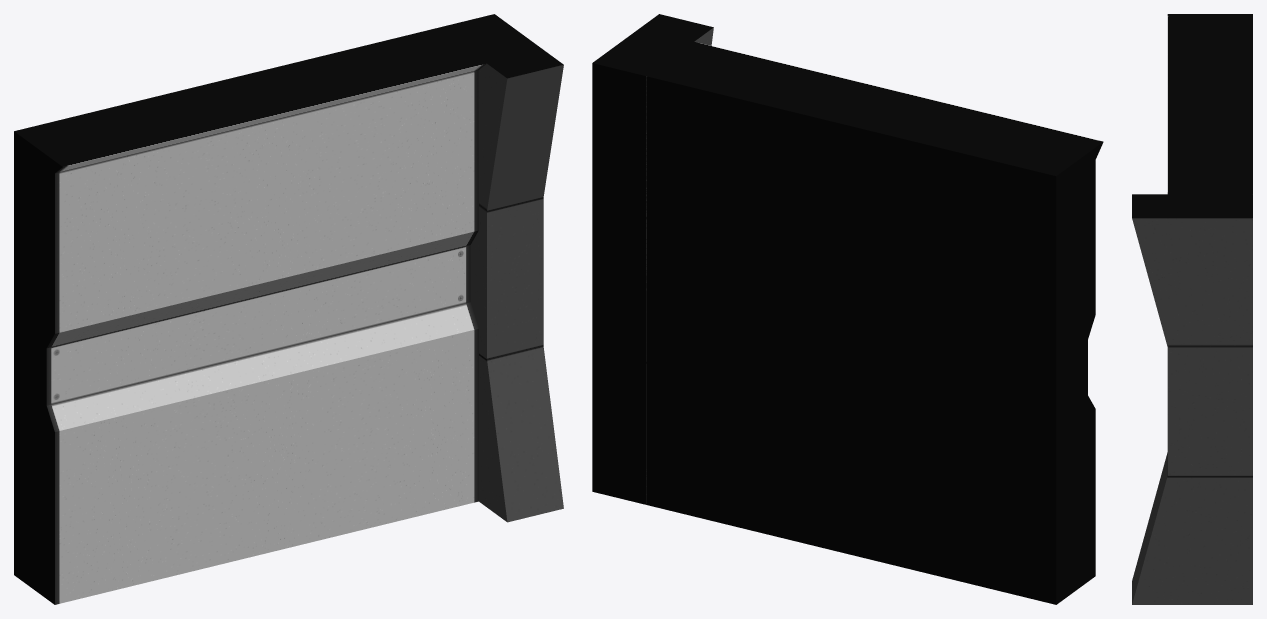
File: wall-2.fbx
The picture shows the model from 3 angles, left to right: view 1: azimuth 30°, elevation 25°; view 2: azimuth 150°, elevation 25°; view 3: azimuth 270°, elevation 25°; orthographic projection. The views are drawn at different scales.
Parts seen in each view (by area): view 1: pCube13, pCube31; view 2: pCube13, pCube31; view 3: pCube31, pCube13.
Part boxes in pixels (left/top/right/bottom): pCube13: left=14, top=28, right=486, bottom=604; pCube31: left=438, top=14, right=563, bottom=522; pCube13: left=646, top=41, right=1103, bottom=604; pCube31: left=592, top=14, right=713, bottom=504; pCube31: left=1132, top=194, right=1252, bottom=604; pCube13: left=1167, top=14, right=1252, bottom=194.
Bounding box in the file's own units: 3.4 × 3 × 0.85.
2 materials, 2 textured.
